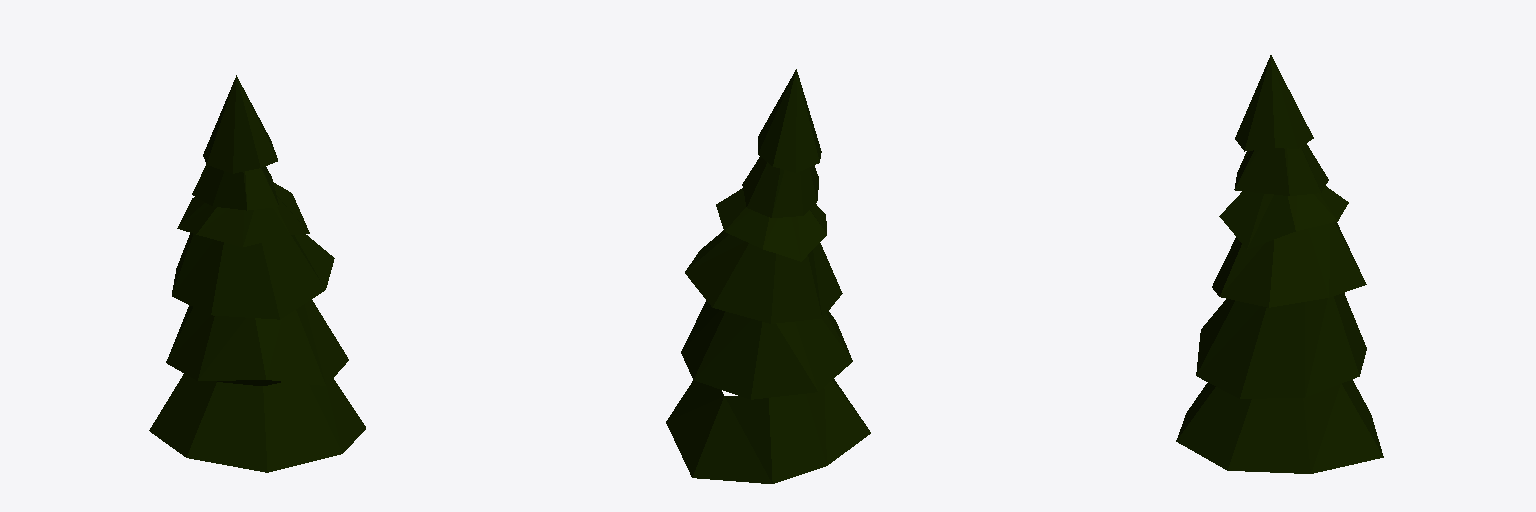
Rendered from L2PINE_02.obj.
3 renders of one model, left to right at view 1: azimuth 30°, elevation 25°; view 2: azimuth 150°, elevation 25°; view 3: azimuth 270°, elevation 25°, orthographic.
Visible parts, largest first — view 1: Cylinder.001; view 2: Cylinder.001; view 3: Cylinder.001.
Boxes of the visible parts, x1,y1,x2,y2 form: Cylinder.001: [149, 75, 365, 472]; Cylinder.001: [666, 69, 870, 483]; Cylinder.001: [1176, 55, 1383, 473].
Bounding box in the file's own units: 2.51 × 5.25 × 2.6.